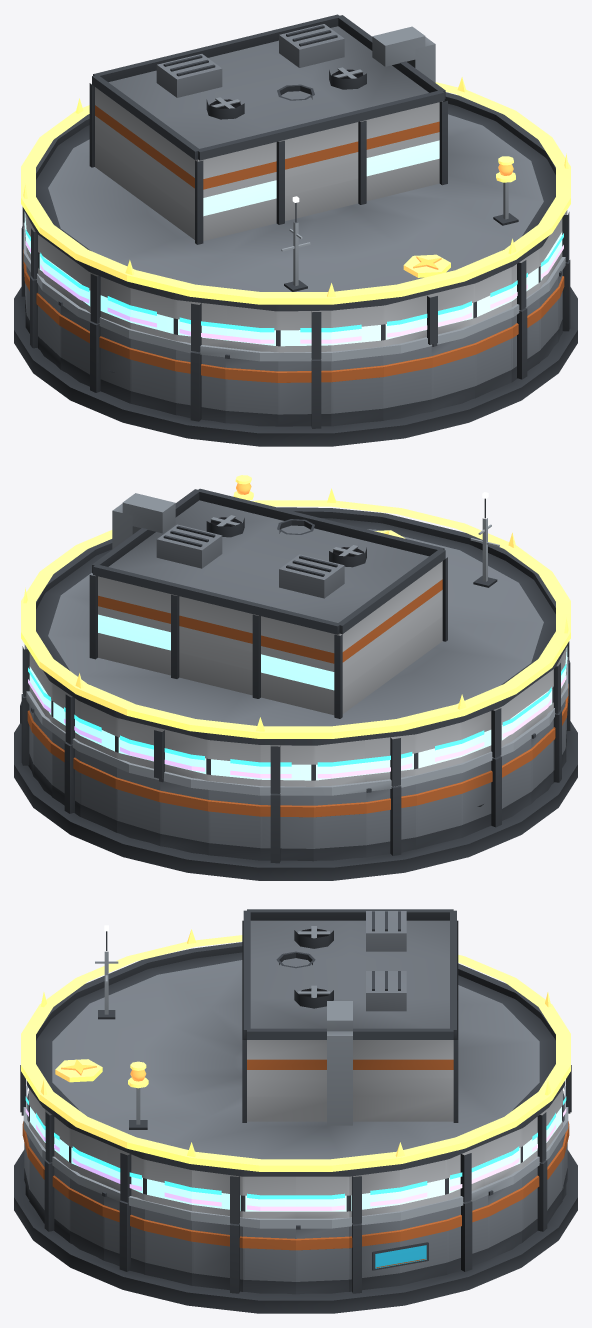
The model's file is electronics_fab.glb.
3 renders of one model, top to bottom at view 1: azimuth 30°, elevation 25°; view 2: azimuth 150°, elevation 25°; view 3: azimuth 270°, elevation 25°, orthographic.
Visible parts, largest first — view 1: Roof, Base, Wall_21, Wall_20, Wall_22, Wall_19, Wall_23, Wall_18, Wall_24, Wall_17, Wall_25, Upper_21 (+37 smaller); view 2: Roof, Base, Wall_10, Wall_11, Wall_09, Wall_12, Wall_08, Wall_13, Wall_07, Wall_14, Wall_06, Upper_10 (+40 smaller); view 3: Roof, Base, Wall_00, Wall_31, Wall_30, Wall_29, Wall_01, Wall_28, Wall_03, Wall_02, Wall_27, Wall_04 (+37 smaller).
Boxes of the visible parts, <box> form: Roof: <box>24,14,555,311</box>; Base: <box>14,287,577,446</box>; Wall_21: <box>278,359,331,428</box>; Wall_20: <box>225,354,278,426</box>; Wall_22: <box>331,355,383,426</box>; Wall_19: <box>175,350,225,423</box>; Wall_23: <box>383,346,432,420</box>; Wall_18: <box>129,339,175,414</box>; Wall_24: <box>431,333,476,411</box>; Wall_17: <box>90,321,130,403</box>; Wall_25: <box>475,318,512,398</box>; Upper_21: <box>278,310,331,359</box>; Roof: <box>36,488,567,745</box>; Base: <box>14,721,577,880</box>; Wall_10: <box>260,793,313,863</box>; Wall_11: <box>313,792,366,860</box>; Wall_09: <box>208,790,260,860</box>; Wall_12: <box>366,784,416,857</box>; Wall_08: <box>159,778,208,855</box>; Wall_13: <box>416,773,462,849</box>; Wall_07: <box>115,768,160,845</box>; Wall_14: <box>461,756,501,837</box>; Wall_06: <box>79,752,116,832</box>; Upper_10: <box>260,745,313,793</box>; Roof: <box>26,909,565,1176</box>; Base: <box>14,1150,577,1313</box>; Wall_00: <box>296,1225,349,1294</box>; Wall_31: <box>242,1226,295,1294</box>; Wall_30: <box>191,1221,242,1293</box>; Wall_29: <box>144,1209,191,1285</box>; Wall_01: <box>349,1221,400,1293</box>; Wall_28: <box>102,1192,144,1274</box>; Wall_03: <box>447,1195,489,1274</box>; Wall_02: <box>400,1209,447,1285</box>; Wall_27: <box>68,1178,103,1260</box>; Wall_04: <box>488,1178,523,1260</box>.
Bounding box in the file's own units: 9.72 × 4.65 × 9.72.
